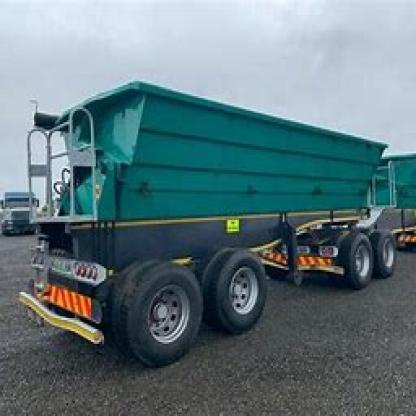dump_truck: (13, 74, 414, 360)
